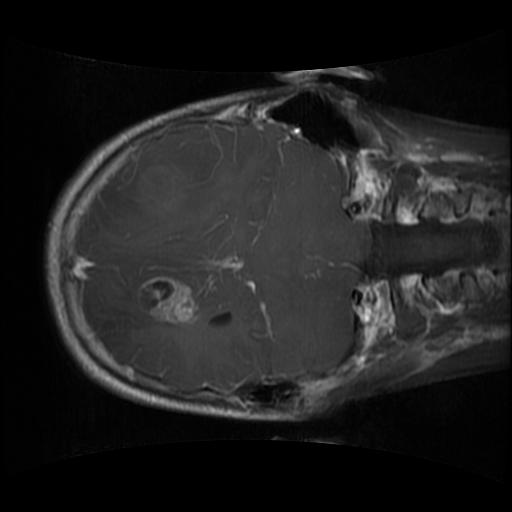glioma: (135, 277, 202, 325)
